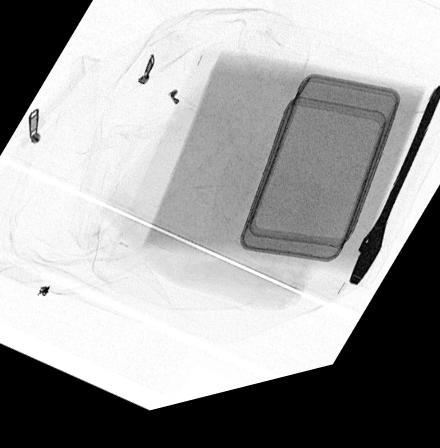Wrench: (346, 104, 440, 305)
